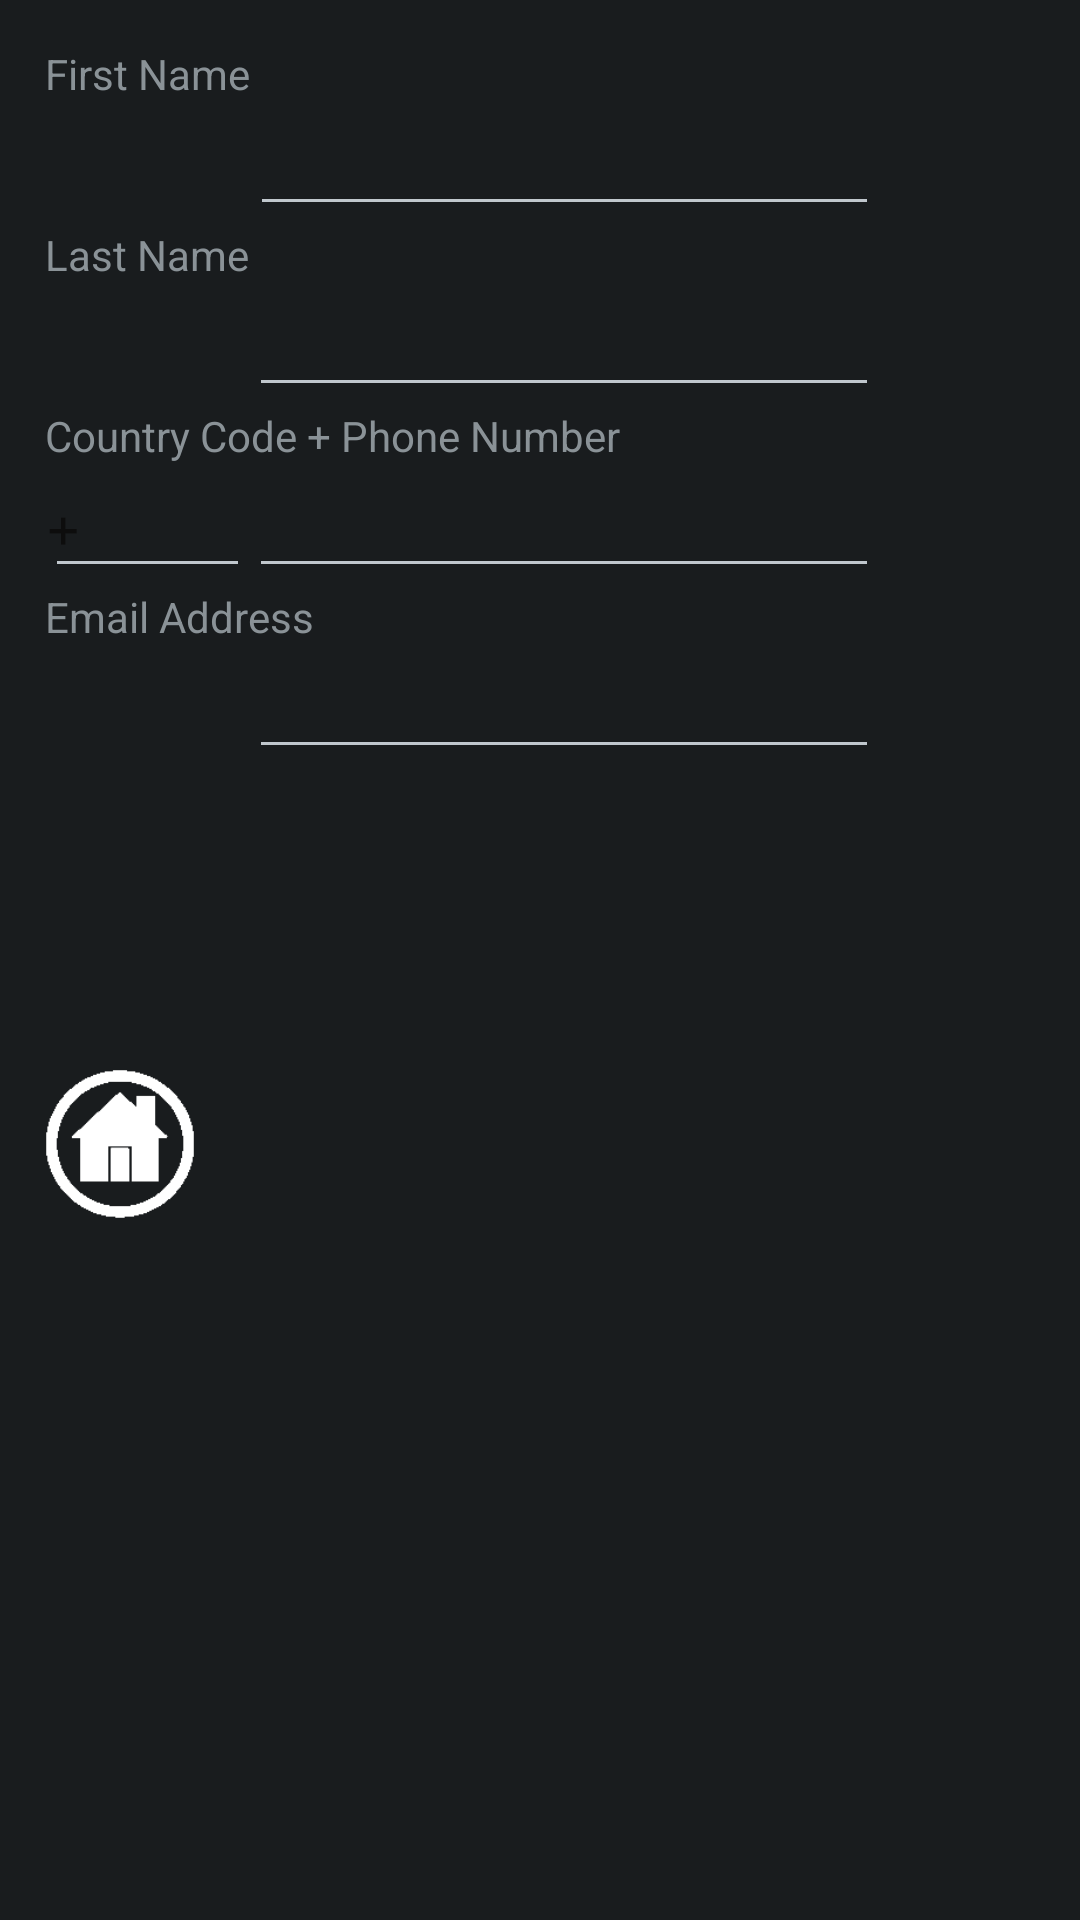

Icons on this 1080px×1920px Android screen, each with the point to tap as (x=x, y=y):
homea: (x=120, y=1144)
